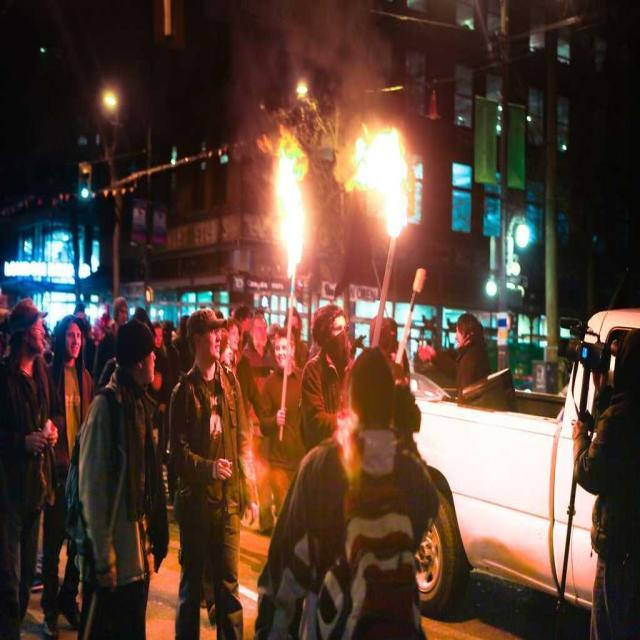Fire: (348, 112, 414, 238), (268, 120, 314, 280)
